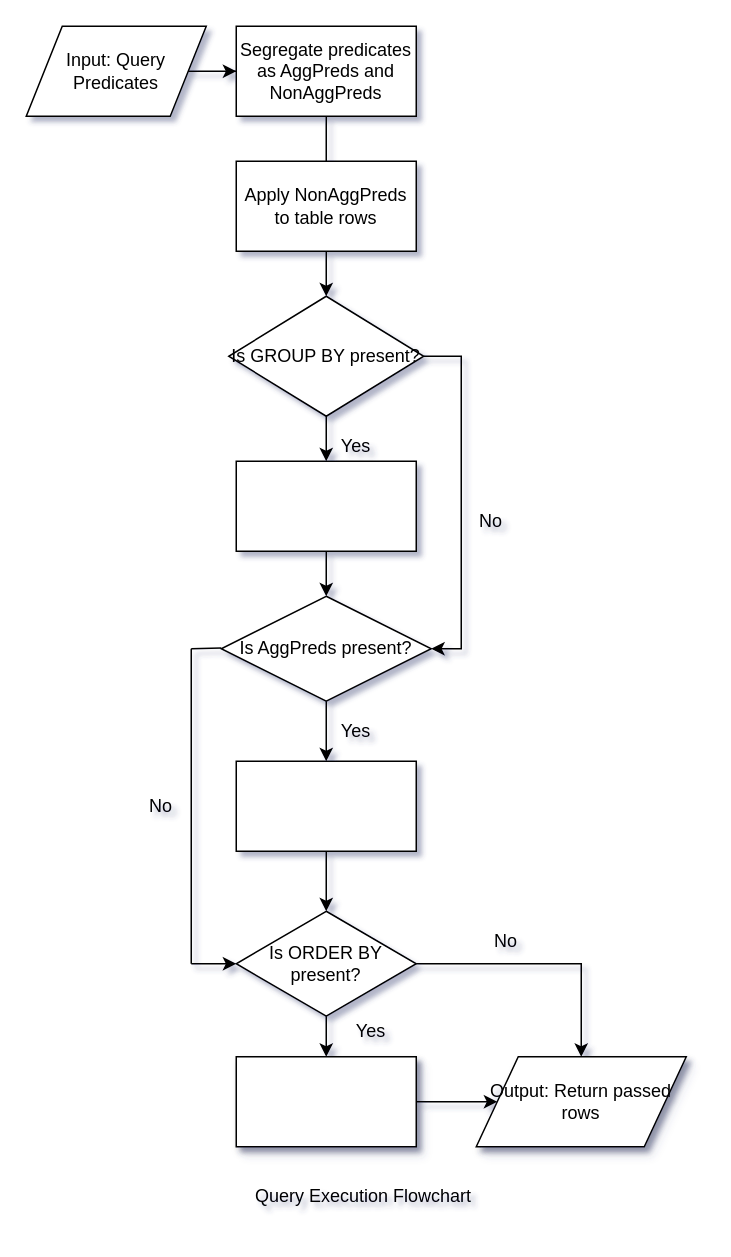
The diagram is 731 pixels wide and 1257 high, and some of its shapes have lost their labels. Here are the shapes that lost their labels. From the top down, the centre of each, then its label:
point 325,505: Map selected rows to GROUP BY cols as keys
point 325,805: Apply AggPreds to selected rows / mapped rows
point 327,1103: Sort rows by ASC/DESC as per ORDER BY cols
